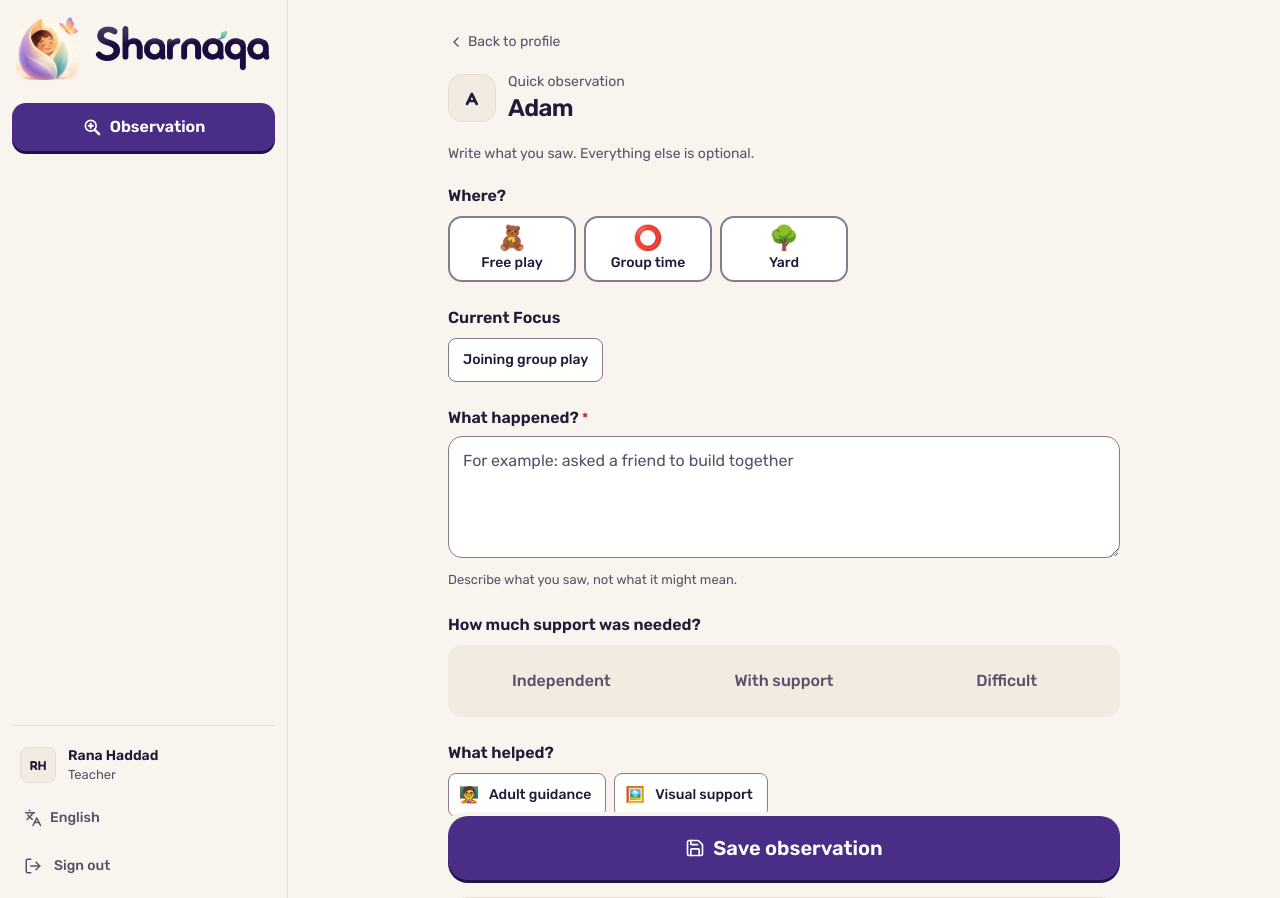
QuickObservation › saves with text + context + support in three taps and returns to the profile
Type "Asked Omar: can we build this together?" into the text box labelled "What happened? *" at coordinates (784, 496), box [448,436,1120,558]
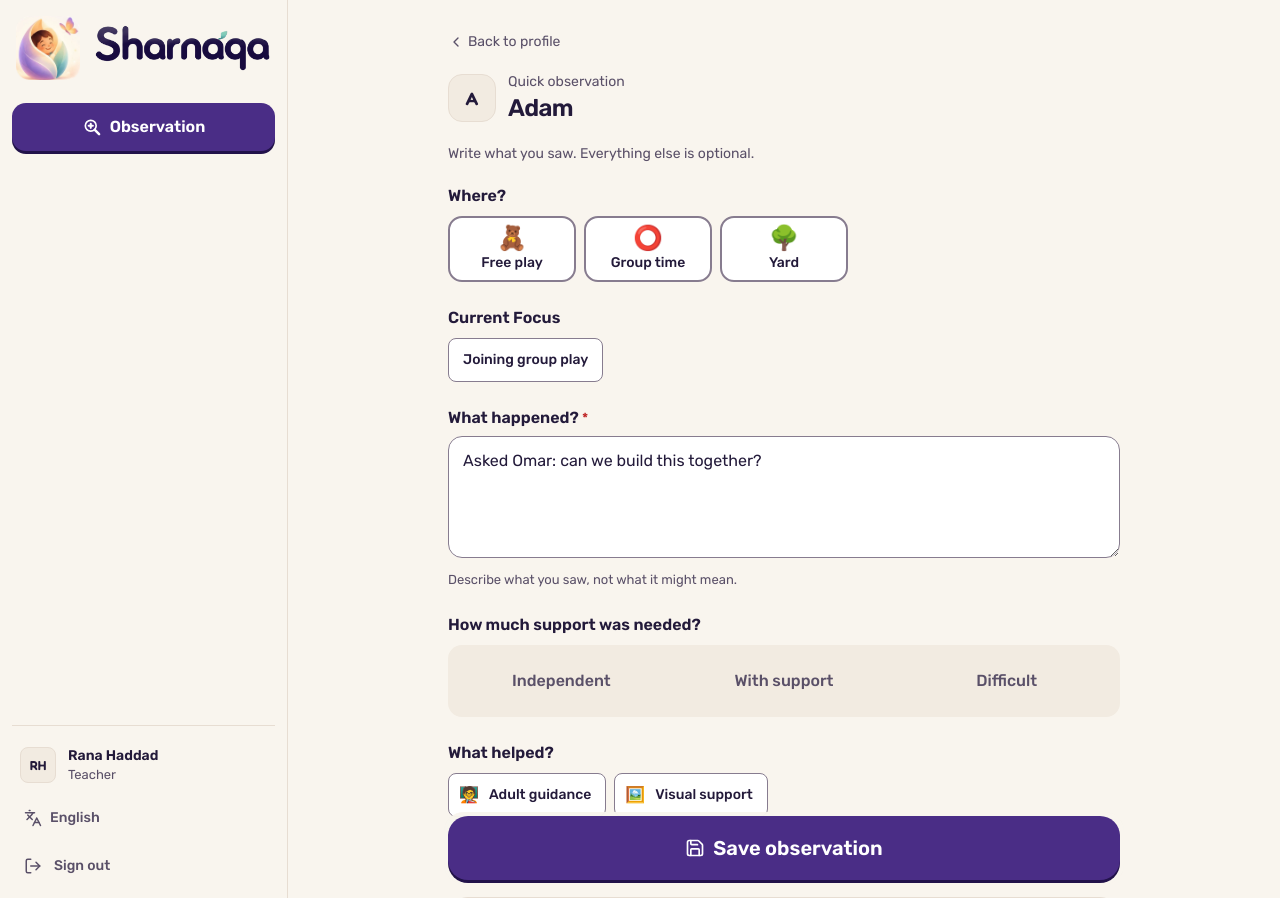
Click the button "🧸 Free play" at coordinates (512, 249), box [448,216,576,282]
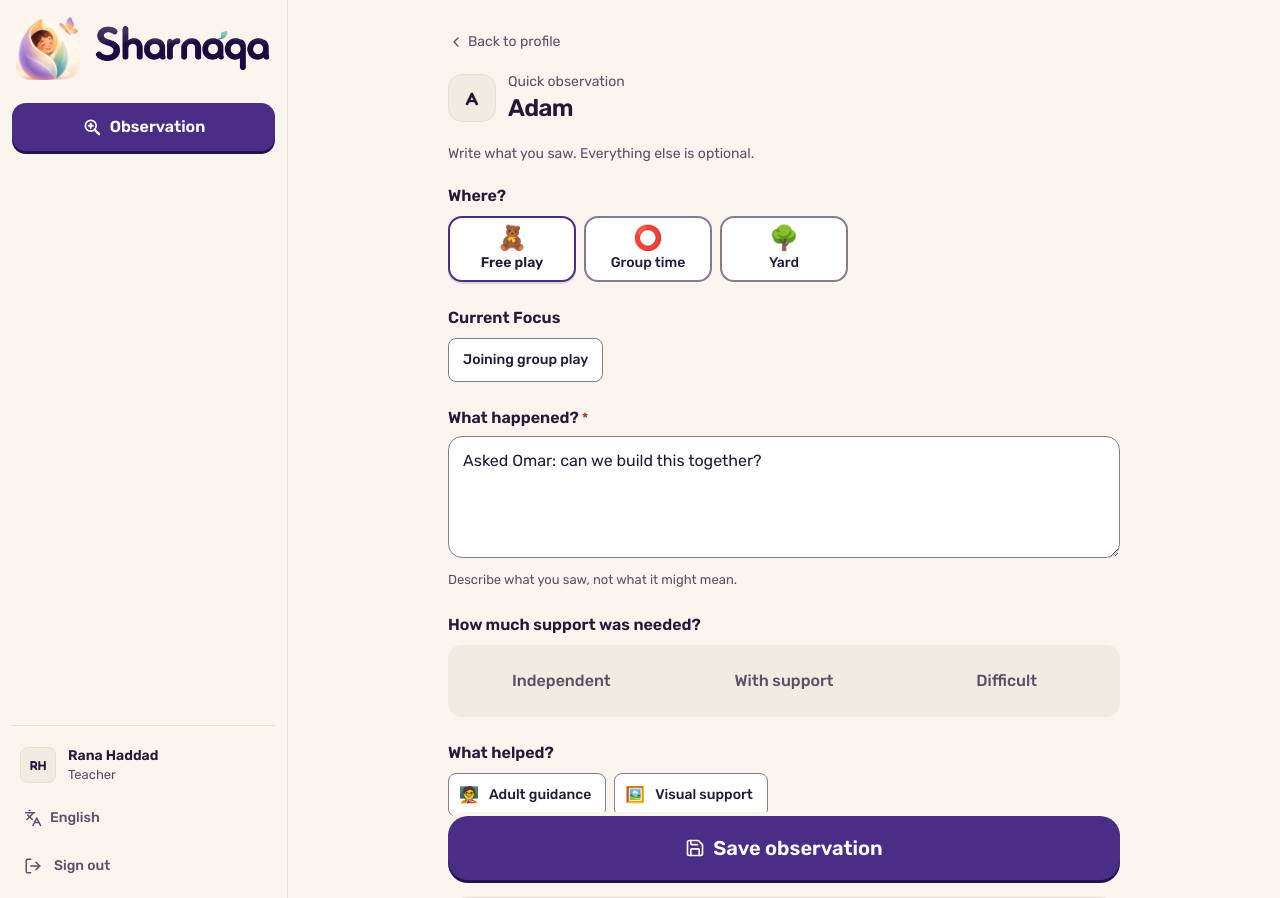
Click the radio button labelled "With support" at coordinates (784, 680), box [675,648,893,712]
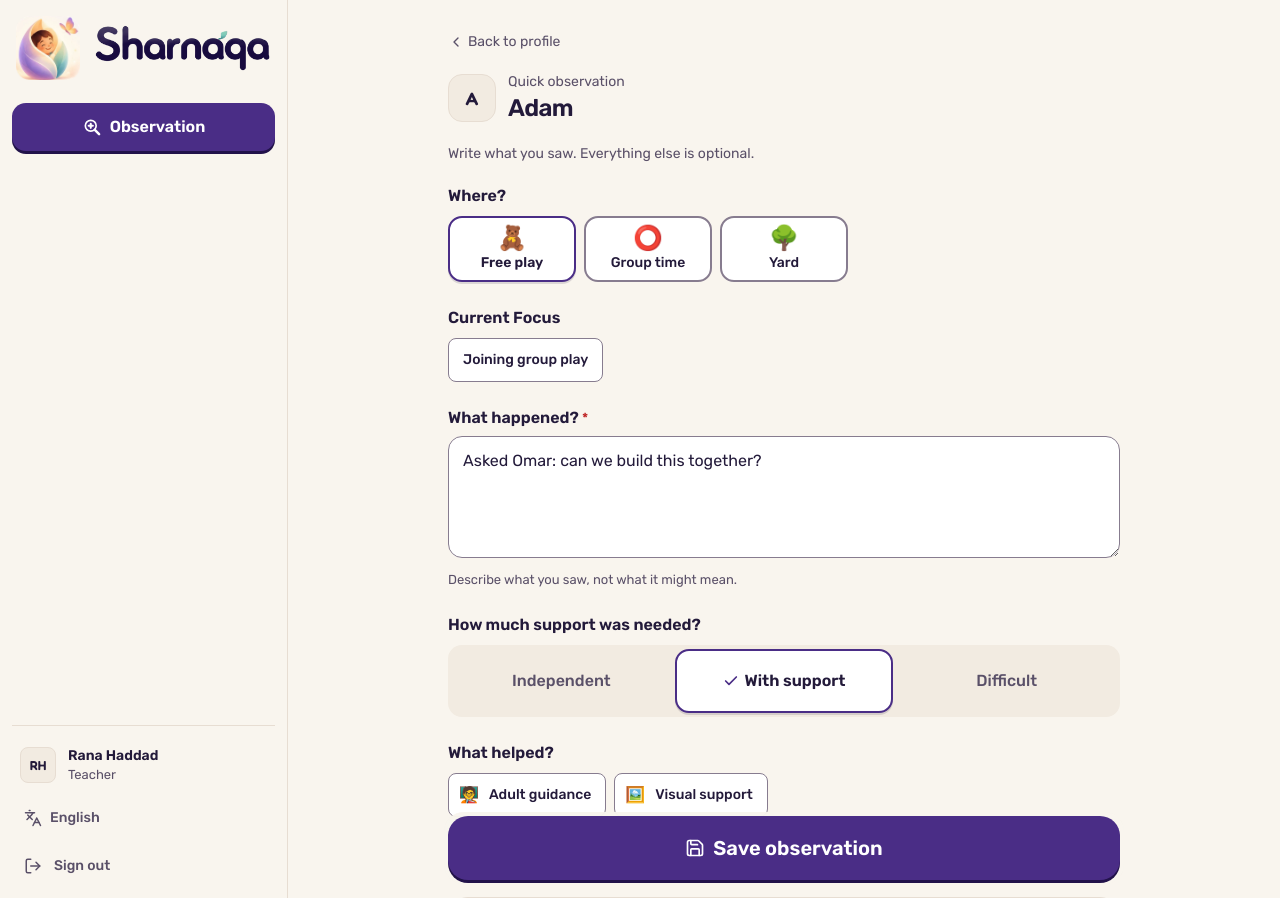
Click the button "Save observation" at coordinates (784, 848), box [448,816,1120,880]
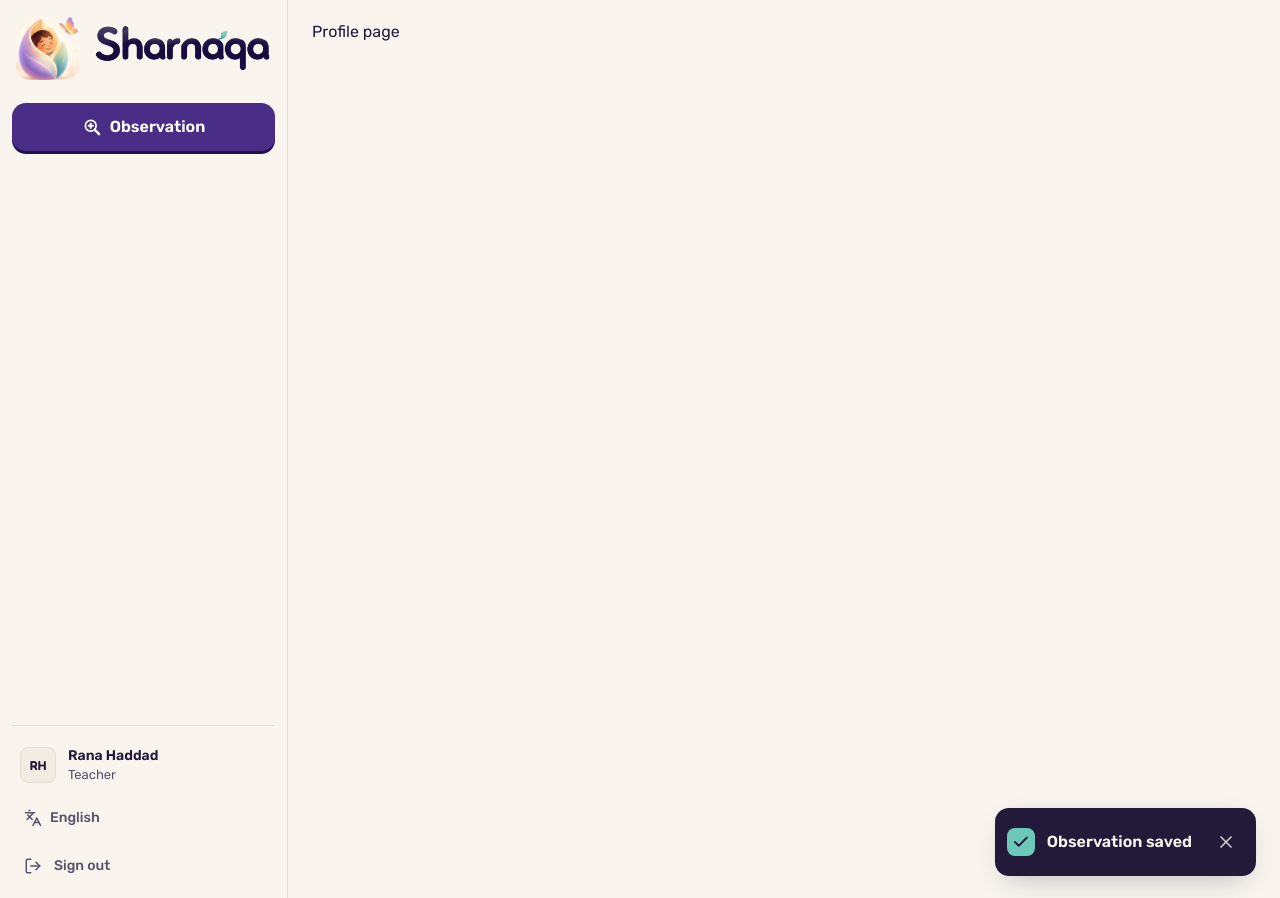
Result: the text "Observation saved" is shown at [1047,830,1192,854]
